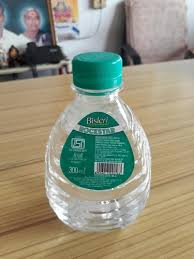Bisleri: (84, 118, 116, 128)
plastic: (61, 115, 136, 232)
